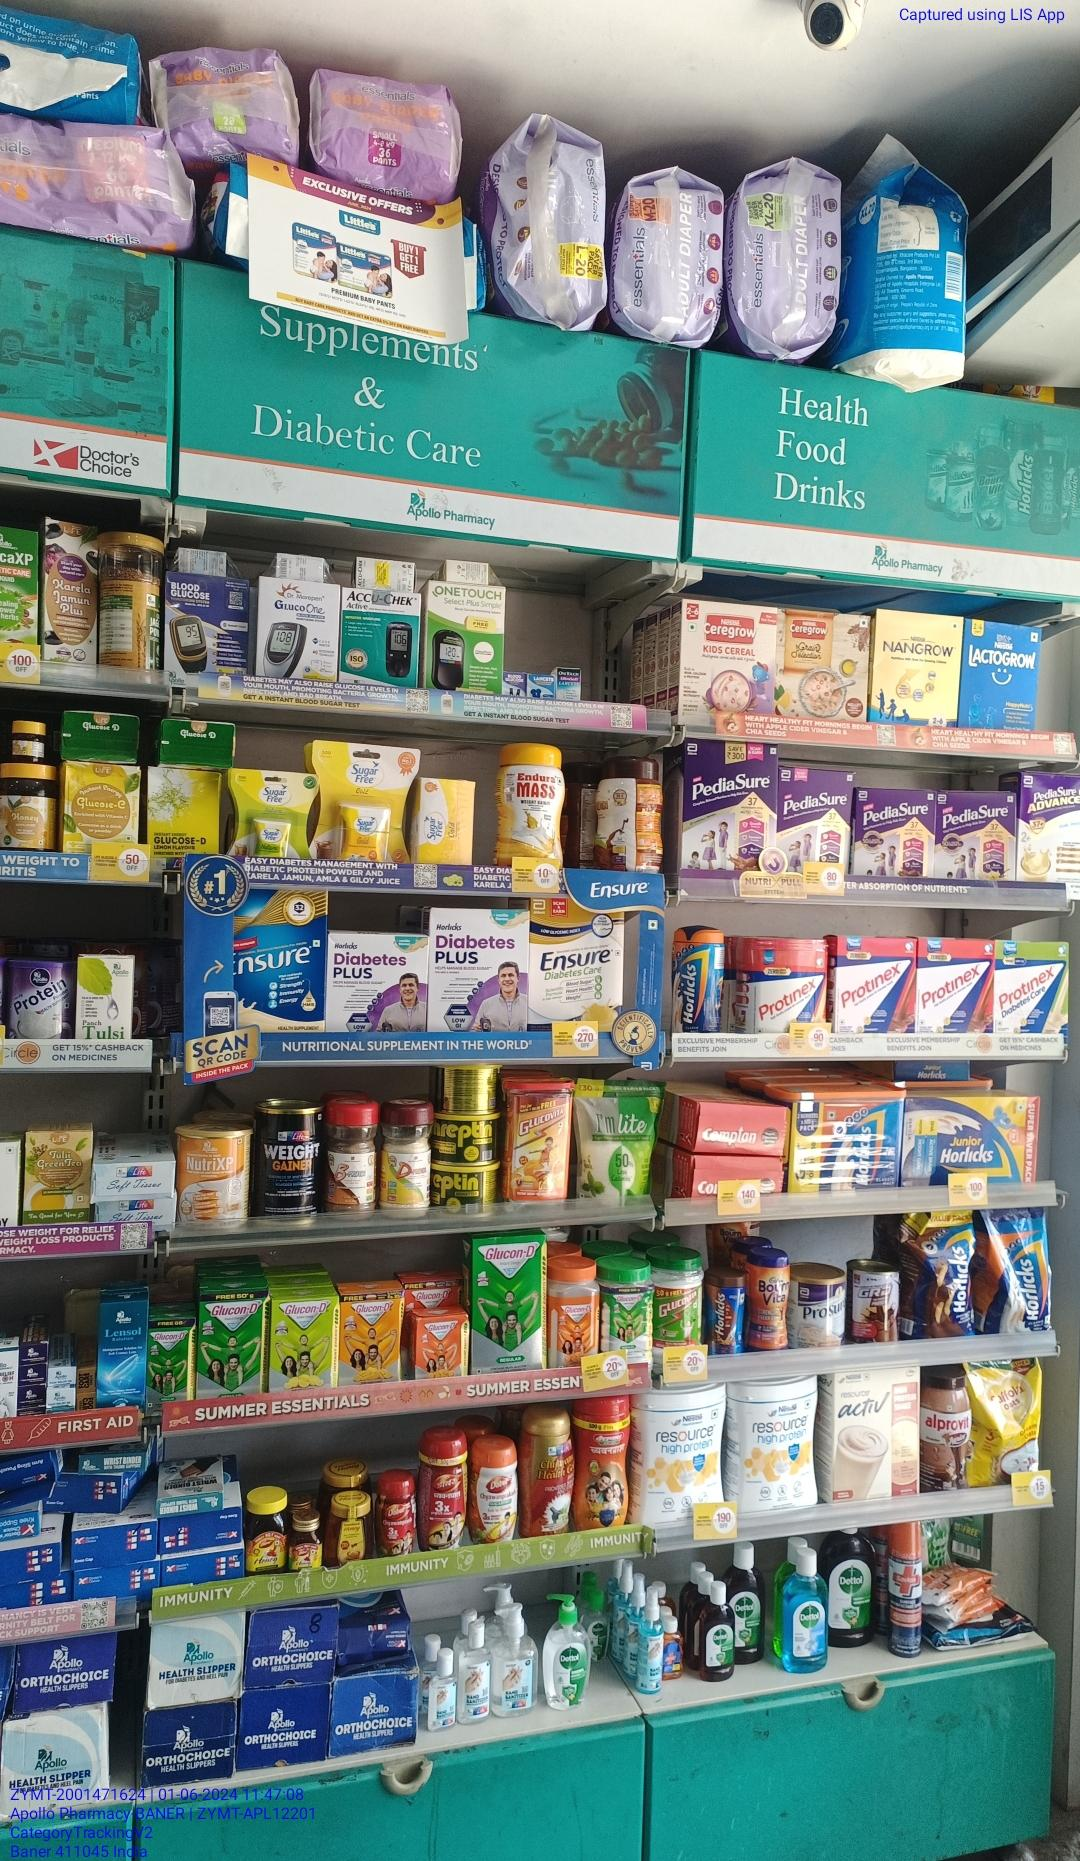HORLICK_CLASSIC_MALT_500_G_JAR: (672, 923, 724, 1033)
